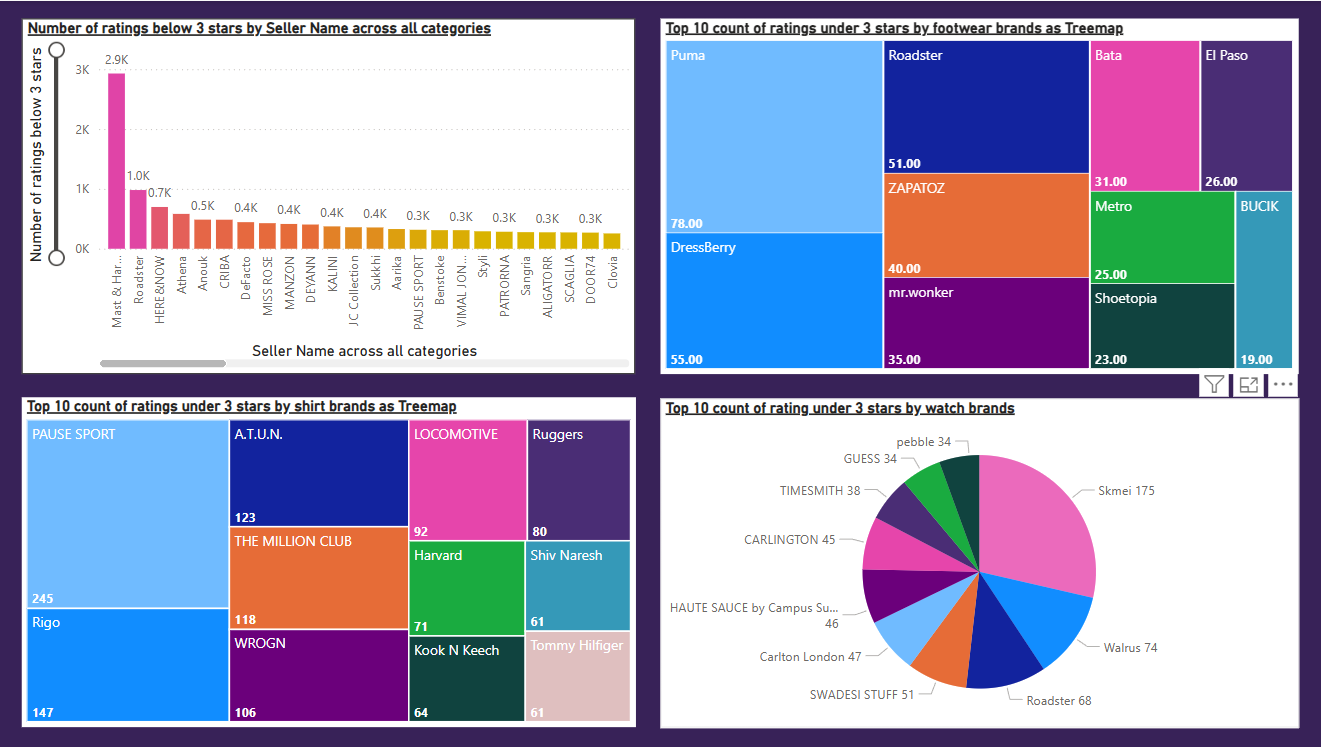

What the dashboard file says about the page in this screenshot:
{"tool":"powerbi","page":{"name":"Page 1","canvas":[1280,720],"ordinal":0},"visuals":[{"type":"clusteredColumnChart","fields":{"Category":["LRS.seller"],"Y":["Sum(LRS.LowRatings)"]},"box":[23.3,16.5,592.3,343.3],"z":0},{"type":"treemap","fields":{"Group":["lowFootwear.seller"],"Values":["Sum(lowFootwear.ratingTotal)"]},"box":[640,16.5,615.7,343.3],"z":1000},{"type":"treemap","fields":{"Group":["lowShirts.seller"],"Values":["Sum(lowShirts.ratingTotal)"]},"box":[23.3,382.8,592.8,318.4],"z":2000},{"type":"pieChart","fields":{"Category":["lowWatches.seller"],"Y":["Sum(lowWatches.ratingTotal)"]},"box":[640,383.2,615.7,318.1],"z":3000}]}

Visuals, with their boxes in screenshot pixels (x1, y1, x2, y2), scaled from the page's 1280x720 canvas onto the 1321x747 screenshot:
clusteredColumnChart - LRS.seller x Sum(LRS.LowRatings): Rect(24, 17, 635, 373)
treemap - lowFootwear.seller x Sum(lowFootwear.ratingTotal): Rect(660, 17, 1296, 373)
treemap - lowShirts.seller x Sum(lowShirts.ratingTotal): Rect(24, 397, 636, 727)
pieChart - lowWatches.seller x Sum(lowWatches.ratingTotal): Rect(660, 398, 1296, 728)
